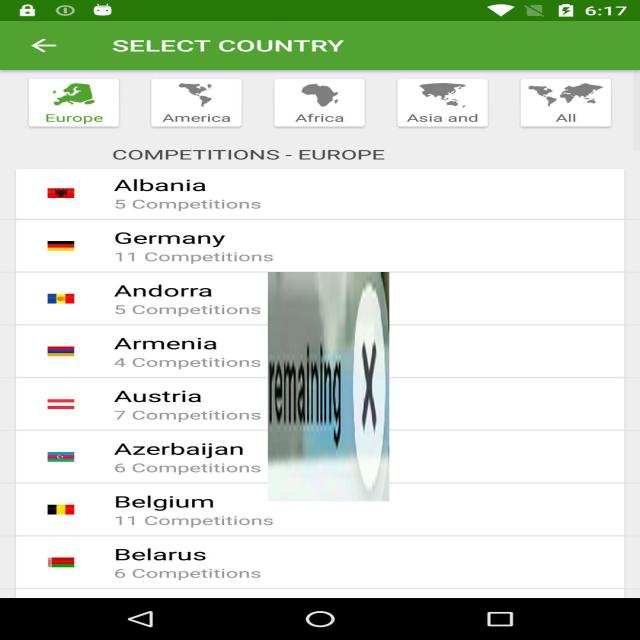misdirection: (268, 272, 389, 501)
